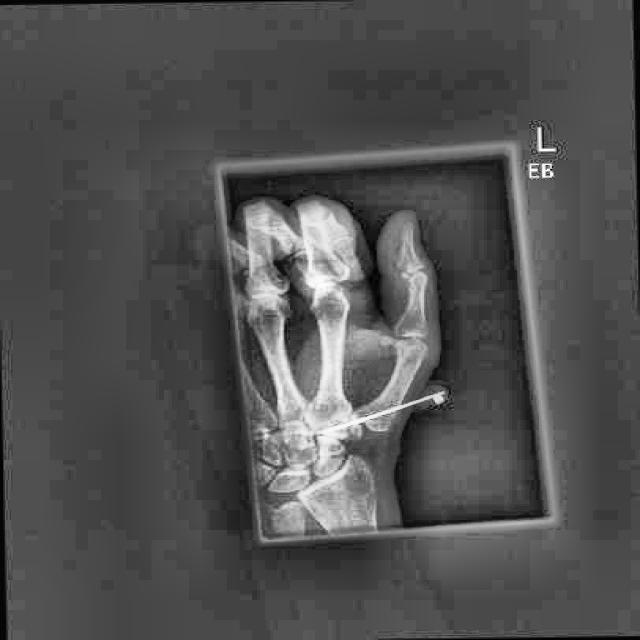fingers positive: (393, 226, 425, 275)
